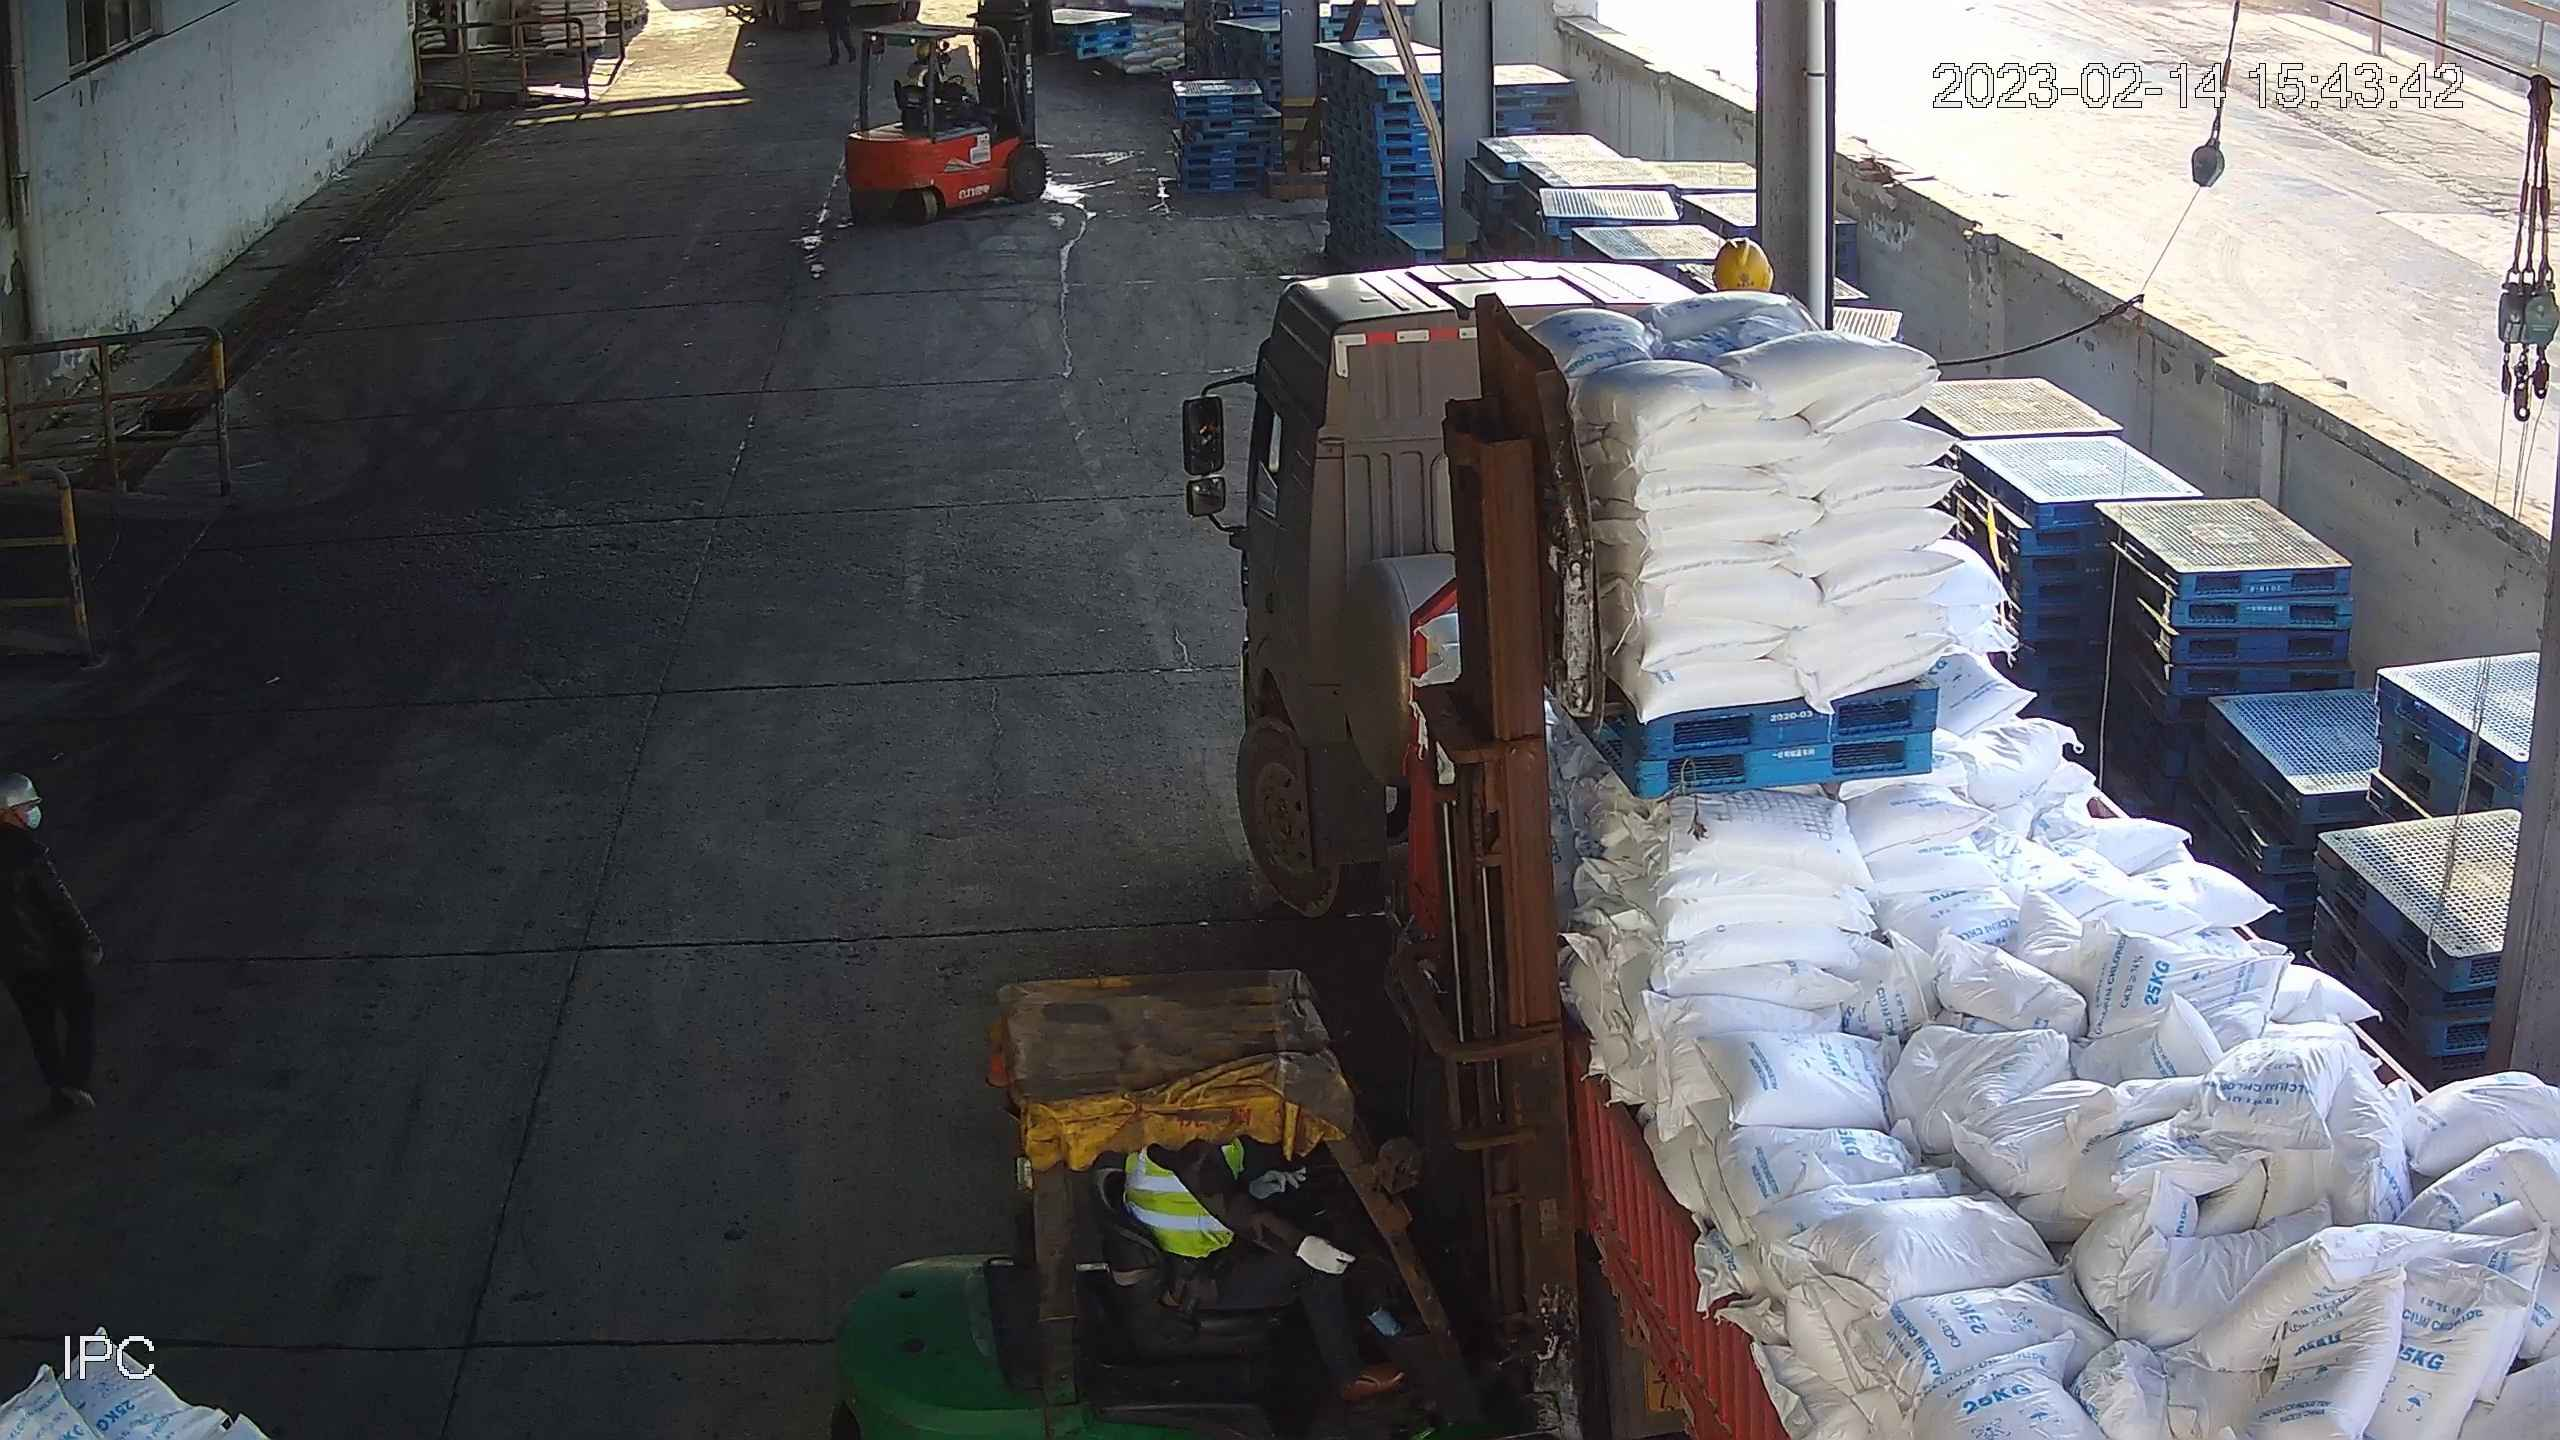helmet: (1699, 237, 1781, 299)
people: (1118, 1139, 1411, 1409)
truck: (1169, 262, 2560, 1440)
